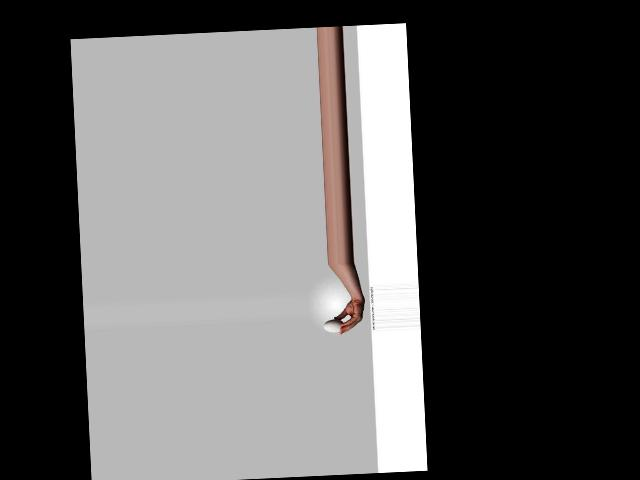egg: (323, 318, 344, 333)
